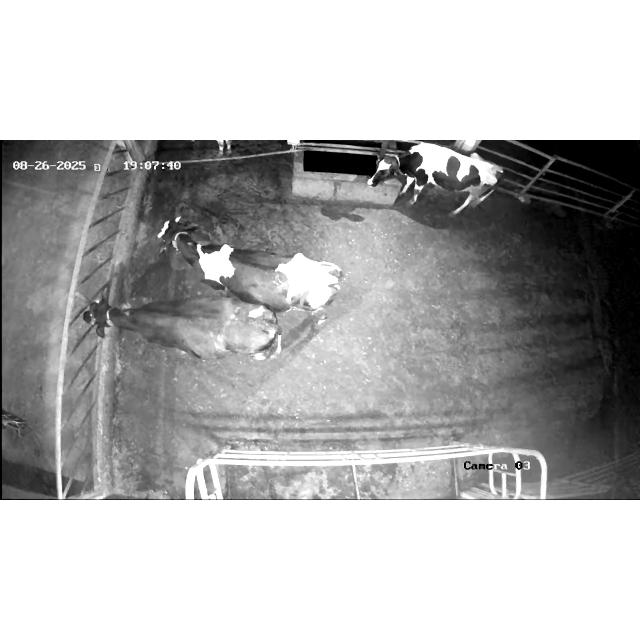stand: (157, 215, 375, 313), (366, 143, 508, 223)
